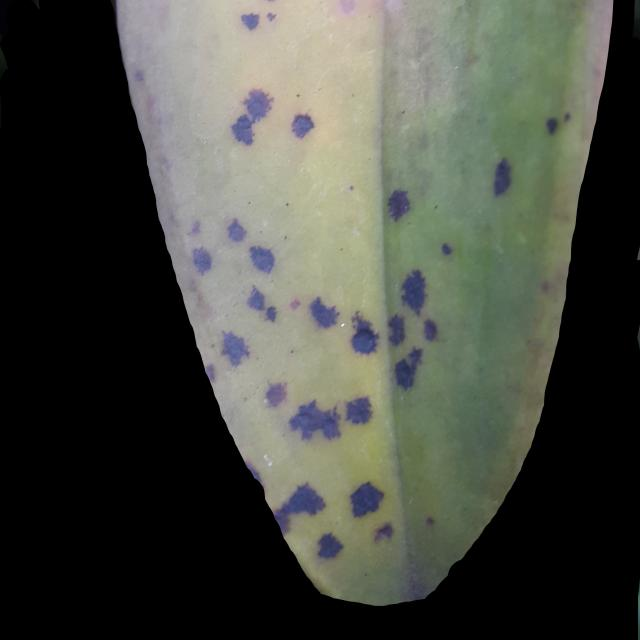mite: (187, 102, 577, 402), (348, 311, 380, 356), (386, 311, 407, 346), (190, 245, 213, 275), (540, 111, 563, 139), (436, 238, 456, 260), (544, 115, 559, 135), (440, 241, 453, 257)
